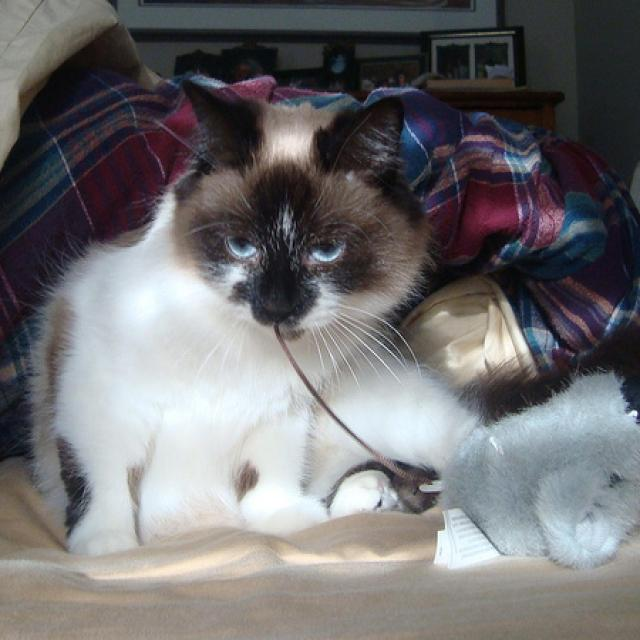Ragdoll: (16, 69, 484, 563)
